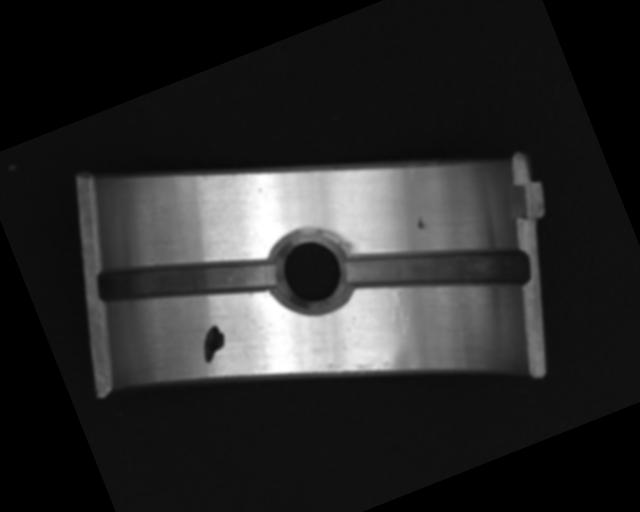blot: (193, 322, 232, 364)
bruise: (413, 215, 427, 231)
gap: (341, 197, 533, 342), (92, 211, 277, 343)
hole: (265, 218, 360, 320)
nick: (378, 288, 416, 341)
